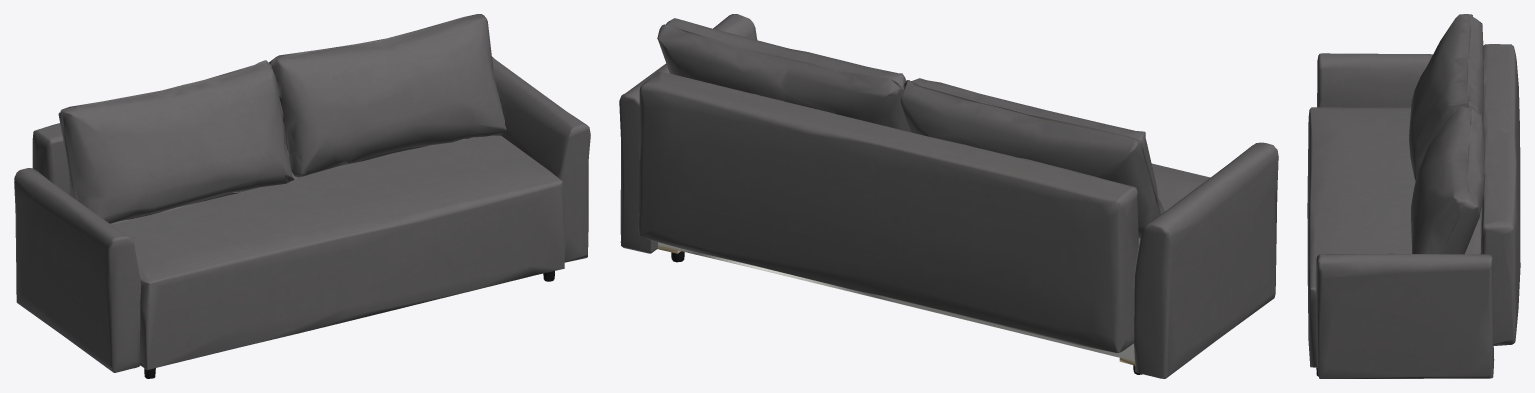
Rendered from brissund_sofa_3_osobowa_rozkadana_30580856.glb.
3 views of the same model, side by side, from view 1: azimuth 30°, elevation 25°; view 2: azimuth 150°, elevation 25°; view 3: azimuth 270°, elevation 25° (orthographic). The views are drawn at different scales.
Visible parts, largest first — view 1: brissund_sofa_3_osobowa_rozkadana_30580856; view 2: brissund_sofa_3_osobowa_rozkadana_30580856; view 3: brissund_sofa_3_osobowa_rozkadana_30580856.
Part boxes in pixels (x1,y1,x2,y2): brissund_sofa_3_osobowa_rozkadana_30580856: (14, 14, 590, 378); brissund_sofa_3_osobowa_rozkadana_30580856: (619, 14, 1278, 378); brissund_sofa_3_osobowa_rozkadana_30580856: (1307, 14, 1520, 378).
Size of the model in its own units: 2.29 by 0.9456 by 0.9794.
1 material, 1 textured.
